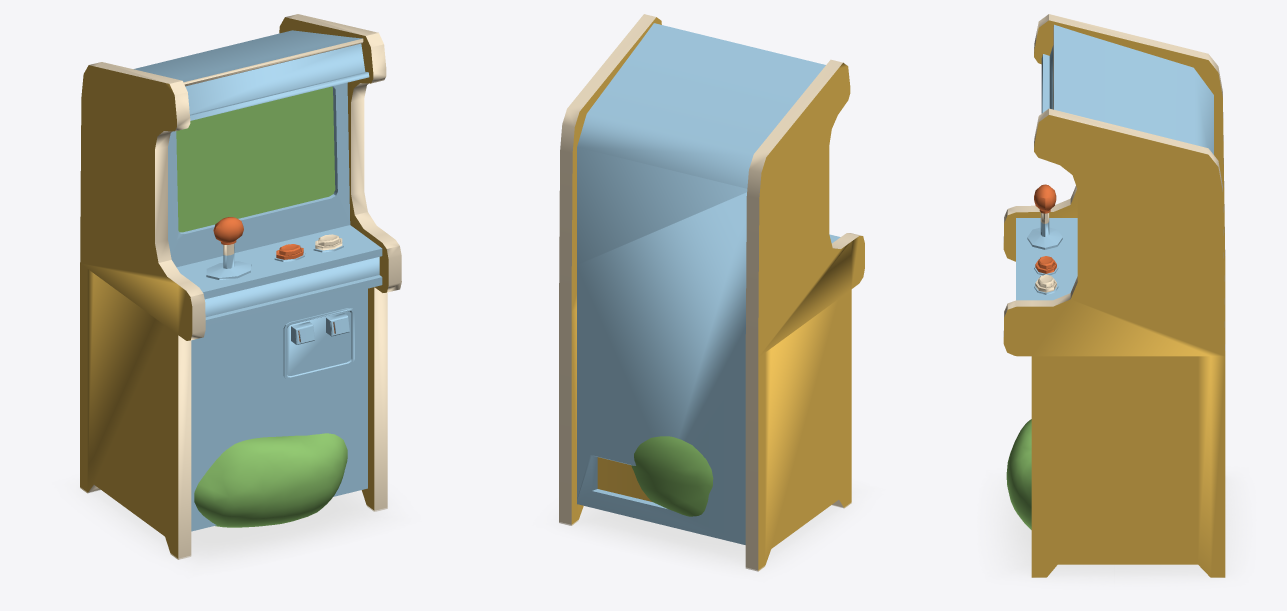
Rendered from interest_game_v1.glb.
3 renders of one model, left to right at view 1: azimuth 30°, elevation 25°; view 2: azimuth 150°, elevation 25°; view 3: azimuth 270°, elevation 25°, orthographic. The views are drawn at different scales.
Parts seen in each view (by area): view 1: arcade_cabinet, arcade_screen, bean_bag_body, shadow_arcade, shadow_bean_bag; view 2: arcade_cabinet, shadow_arcade, bean_bag_body, shadow_bean_bag; view 3: arcade_cabinet, shadow_arcade, shadow_bean_bag, bean_bag_body.
Part boxes in pixels (x1,y1,x2,y2): arcade_cabinet: (80, 14, 401, 559); arcade_screen: (176, 86, 335, 232); bean_bag_body: (194, 433, 347, 527); shadow_arcade: (76, 484, 393, 565); shadow_bean_bag: (105, 495, 381, 559); arcade_cabinet: (559, 14, 864, 571); shadow_arcade: (555, 491, 854, 571); bean_bag_body: (631, 436, 713, 516); shadow_bean_bag: (578, 505, 836, 565); arcade_cabinet: (1003, 14, 1225, 577); shadow_arcade: (998, 475, 1238, 583); shadow_bean_bag: (996, 493, 1233, 577); bean_bag_body: (1006, 419, 1031, 529).
Bounding box in the file's own units: 0.98 × 1.5 × 0.93.
Materials: 8 (1 with a texture image).
